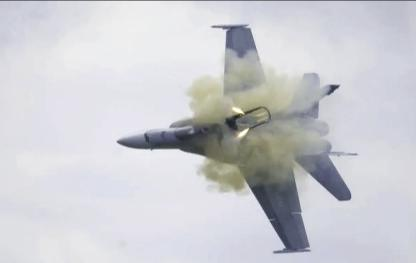F15: (117, 23, 361, 253)
